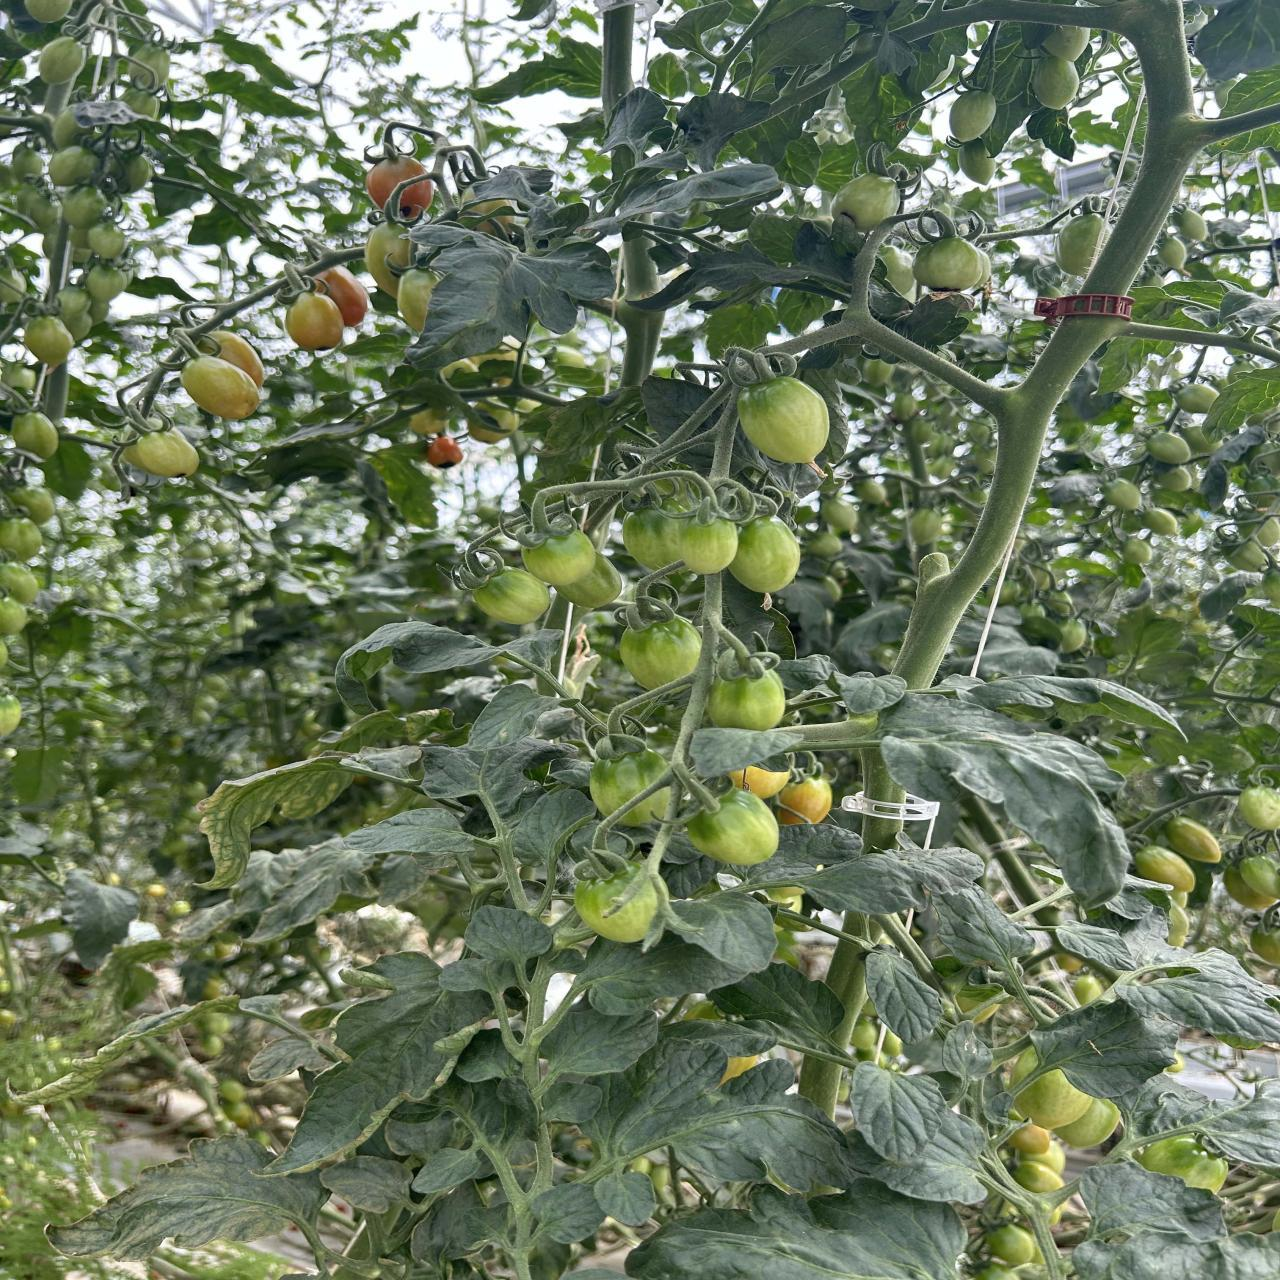Rugose leaf: (880, 696, 1130, 906), (279, 954, 489, 1171), (178, 809, 475, 940), (47, 1136, 329, 1260), (199, 754, 363, 890), (799, 850, 982, 915), (1080, 1160, 1225, 1239), (321, 1156, 413, 1213)
Rugose tomato: (686, 789, 778, 865), (728, 517, 799, 593), (590, 750, 668, 817), (181, 355, 259, 418), (367, 157, 435, 219), (284, 292, 345, 352), (125, 429, 197, 477), (1223, 856, 1280, 912), (1135, 845, 1194, 897), (1164, 816, 1223, 864), (620, 791, 668, 826), (1175, 209, 1207, 240), (1158, 236, 1187, 271)
